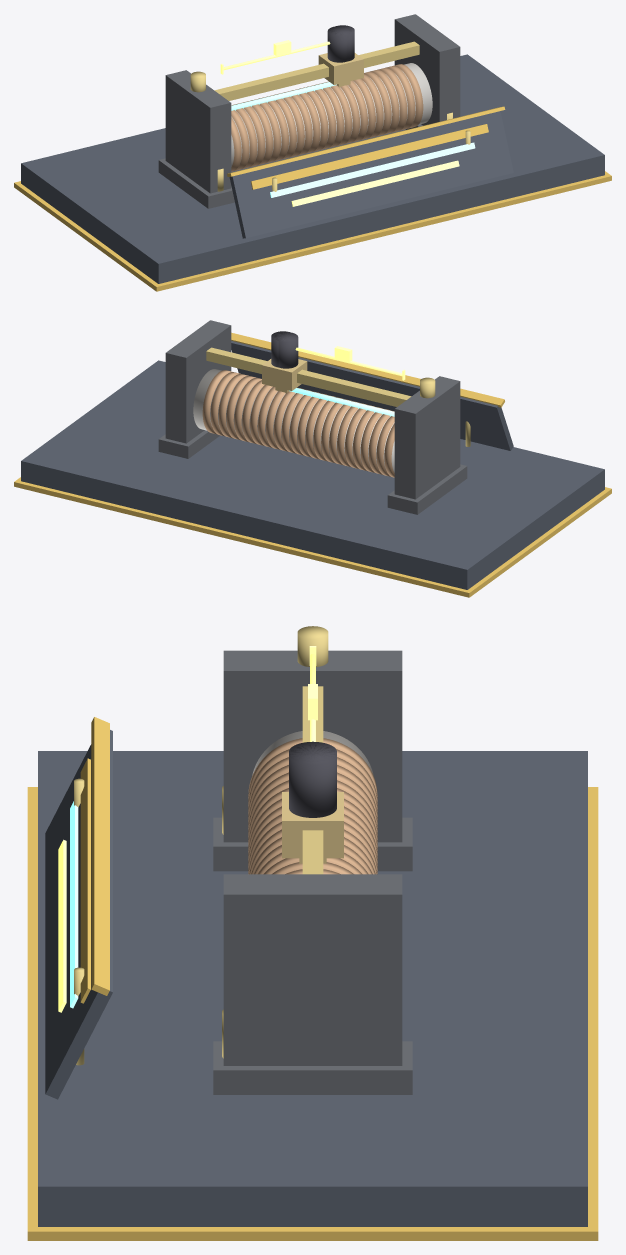
The model's file is rheostat.glb.
3 views of the same model, one above another, from view 1: azimuth 30°, elevation 25°; view 2: azimuth 150°, elevation 25°; view 3: azimuth 270°, elevation 25° (orthographic). The views are drawn at different scales.
Visible parts, largest first — view 1: rheo_full_plinth, rheo_sec_plaque_face, rheo_full_bracket_left, rheo_full_plinth_rim, rheo_full_bracket_right, rheo_full_slider_bar, rheo_sec_title_bar, rheo_full_ceramic_core, rheo_sec_sub1, rheo_sec_plaque_trim, rheo_full_foot_left, rheo_sec_sub2 (+26 smaller); view 2: rheo_full_plinth, rheo_full_bracket_left, rheo_full_plinth_rim, rheo_full_bracket_right, rheo_sec_plaque_face, rheo_full_slider_bar, rheo_full_ceramic_core, rheo_sec_plaque_trim, rheo_full_foot_left, rheo_full_foot_right, rheo_full_rider_block, rheo_full_slider_knob (+24 smaller); view 3: rheo_full_plinth, rheo_full_bracket_right, rheo_full_bracket_left, rheo_full_plinth_rim, rheo_sec_plaque_face, rheo_full_foot_right, rheo_sec_plaque_trim, rheo_sec_slider_knob, rheo_full_foot_left, rheo_sec_title_bar, rheo_sec_rider_block, rheo_full_slider_bar (+4 smaller).
Part boxes in pixels (<box>): rheo_full_plinth: <box>21,54,604,283</box>; rheo_sec_plaque_face: <box>229,111,513,238</box>; rheo_full_bracket_left: <box>165,70,231,193</box>; rheo_full_plinth_rim: <box>14,171,611,291</box>; rheo_full_bracket_right: <box>394,14,460,125</box>; rheo_full_slider_bar: <box>214,41,419,100</box>; rheo_sec_title_bar: <box>250,124,488,189</box>; rheo_full_ceramic_core: <box>231,63,432,166</box>; rheo_sec_sub1: <box>270,142,475,197</box>; rheo_sec_plaque_trim: <box>227,106,505,176</box>; rheo_full_foot_left: <box>158,158,234,208</box>; rheo_sec_sub2: <box>291,160,459,206</box>; rheo_full_plinth: <box>21,360,604,589</box>; rheo_full_bracket_left: <box>394,376,460,499</box>; rheo_full_plinth_rim: <box>14,477,611,597</box>; rheo_full_bracket_right: <box>165,320,231,443</box>; rheo_sec_plaque_face: <box>231,341,513,450</box>; rheo_full_slider_bar: <box>206,347,411,406</box>; rheo_full_ceramic_core: <box>193,369,394,472</box>; rheo_sec_plaque_trim: <box>231,332,504,407</box>; rheo_full_foot_left: <box>387,464,467,514</box>; rheo_full_foot_right: <box>158,430,220,458</box>; rheo_full_rider_block: <box>265,359,307,390</box>; rheo_full_slider_knob: <box>274,332,298,368</box>; rheo_full_plinth: <box>38,751,587,1226</box>; rheo_full_bracket_right: <box>223,874,402,1065</box>; rheo_full_bracket_left: <box>223,650,402,842</box>; rheo_full_plinth_rim: <box>27,787,598,1240</box>; rheo_sec_plaque_face: <box>45,730,112,1099</box>; rheo_full_foot_right: <box>213,1041,412,1094</box>; rheo_sec_plaque_trim: <box>91,717,109,995</box>; rheo_sec_slider_knob: <box>289,744,336,817</box>; rheo_full_foot_left: <box>213,817,412,871</box>; rheo_sec_title_bar: <box>80,758,90,1003</box>; rheo_sec_rider_block: <box>282,794,343,858</box>; rheo_full_slider_bar: <box>302,686,323,874</box>.
Size of the model in its own units: 0.306 by 0.0955 by 0.166.
